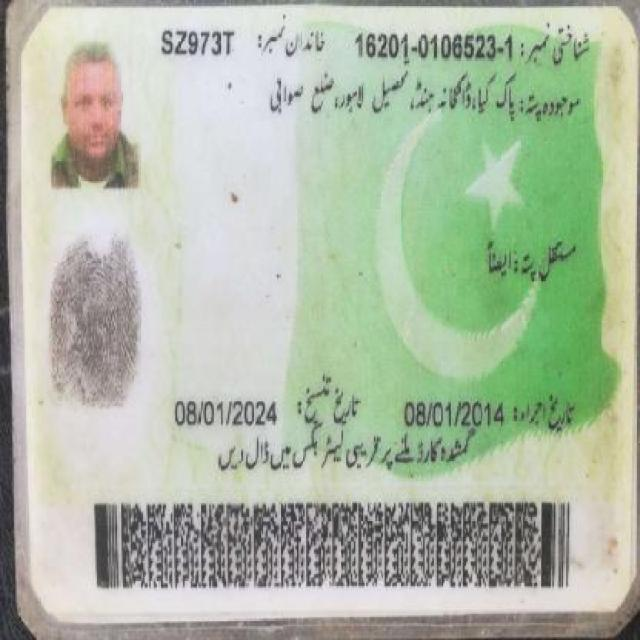Back: (10, 8, 628, 623)
